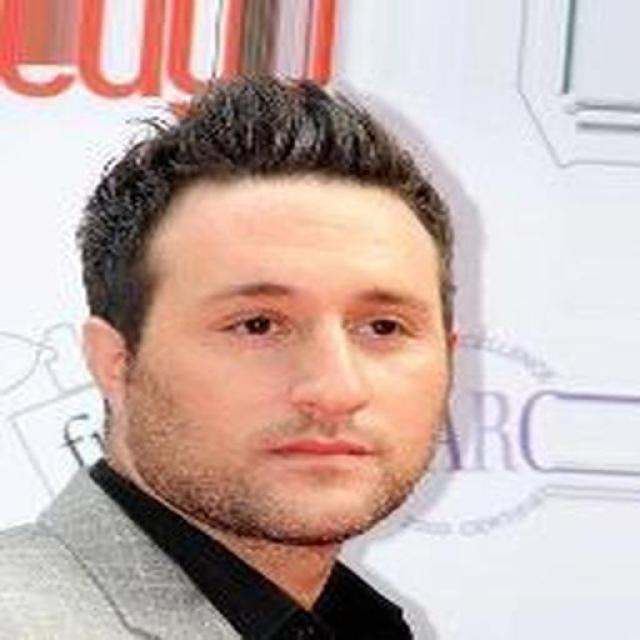bareface: (68, 118, 494, 559)
